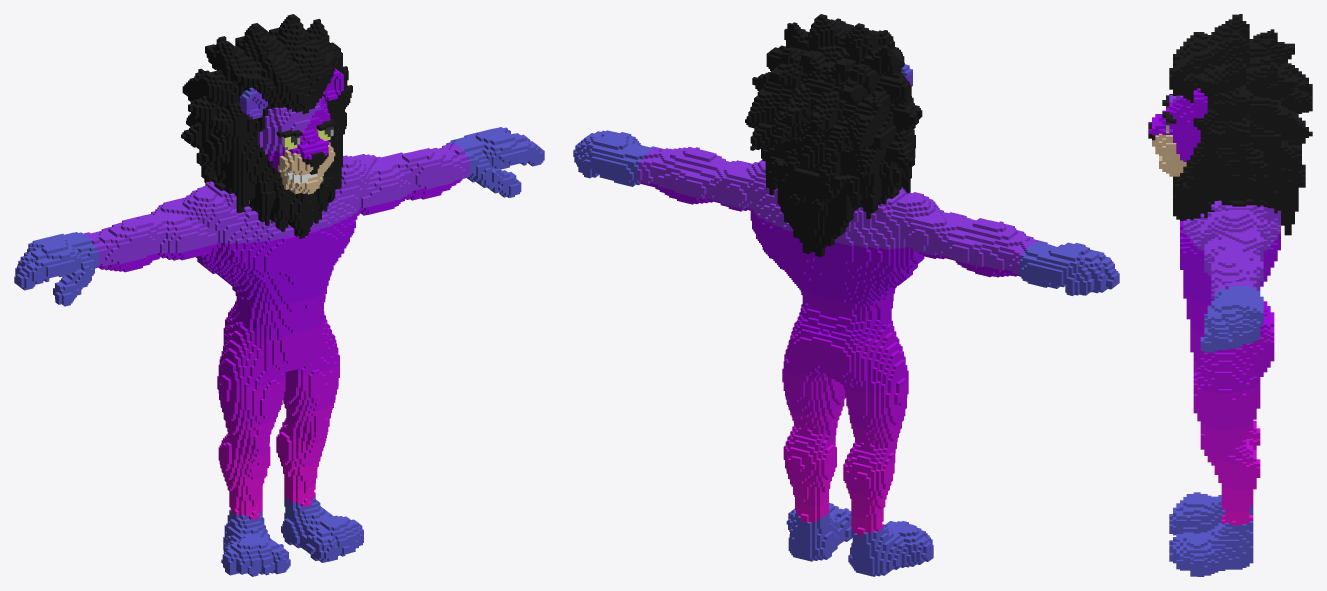
Rendered from 735-PrN4oVpH.glb.
3 renders of one model, left to right at view 1: azimuth 30°, elevation 25°; view 2: azimuth 150°, elevation 25°; view 3: azimuth 270°, elevation 25°, orthographic. The views are drawn at different scales.
Parts seen in each view (by area): view 1: grin; view 2: grin; view 3: grin.
Part boxes in pixels (x1=…): grin: x1=14, y1=14, x2=544, y2=576; grin: x1=573, y1=14, x2=1119, y2=576; grin: x1=1148, y1=14, x2=1312, y2=576.
Bounding box in the file's own units: 17.2 × 16.5 × 4.7.
4 materials, 4 textured.
